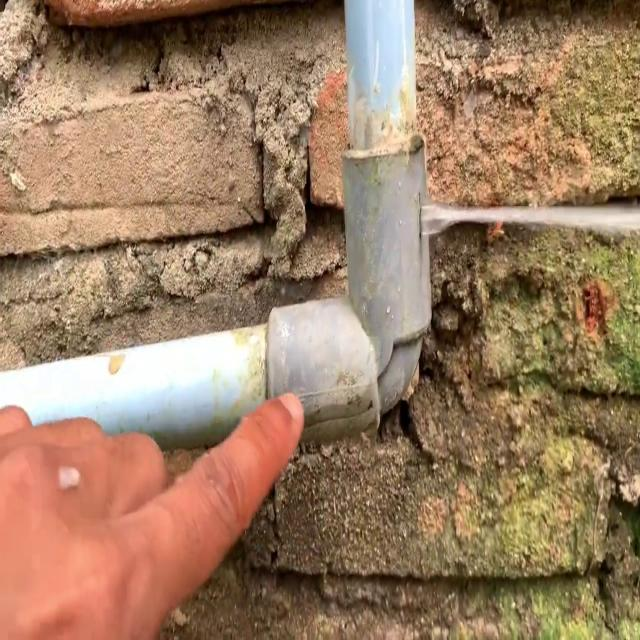leak: (416, 201, 640, 237)
